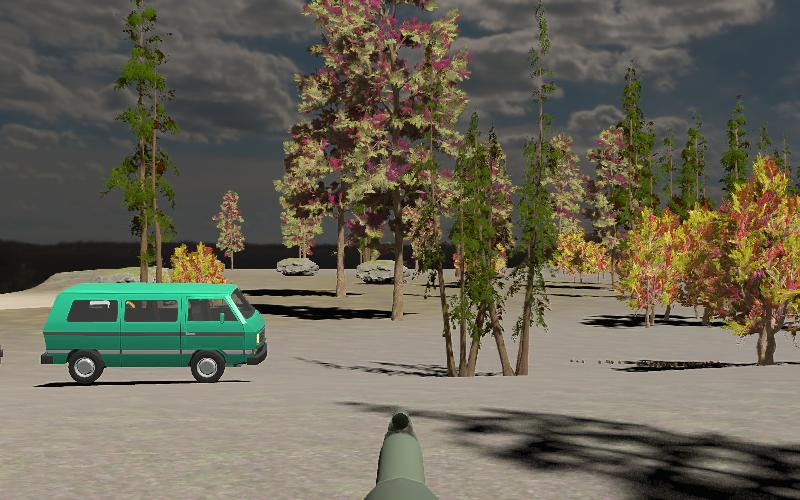car: (40, 279, 269, 386)
